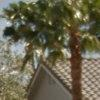Palm tree: (36, 1, 100, 87)
